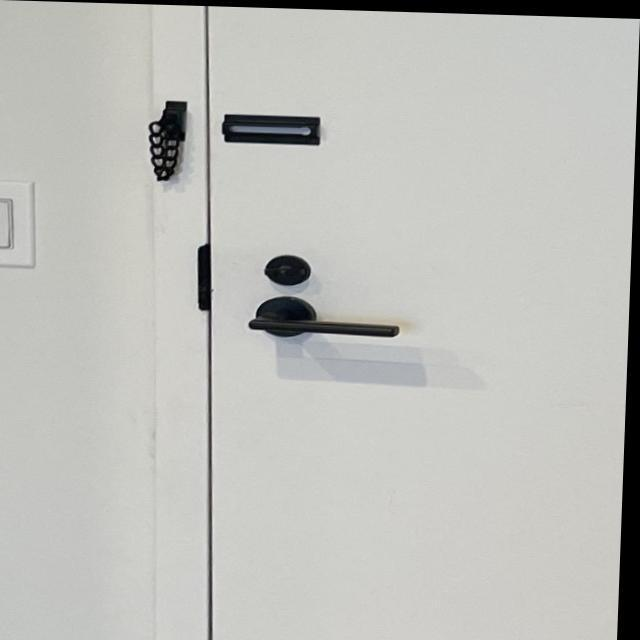door_handle: (223, 299, 415, 355)
